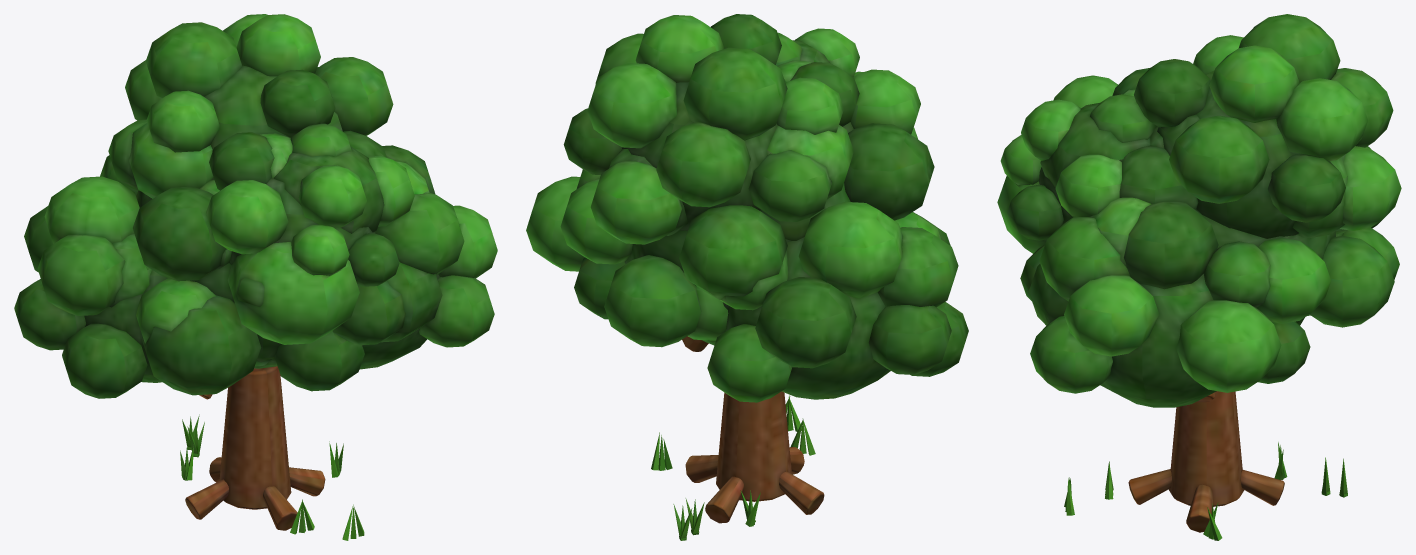
Rendered from pomegranate_tree.glb.
The picture shows the model from 3 angles, left to right: view 1: azimuth 30°, elevation 25°; view 2: azimuth 150°, elevation 25°; view 3: azimuth 270°, elevation 25°; orthographic projection. The views are drawn at different scales.
Parts seen in each view (by area): view 1: crown, pomegranate_tree; view 2: crown, pomegranate_tree; view 3: crown, pomegranate_tree.
Boxes of the visible parts, left/top/right/bottom form: crown: left=14, top=14, right=497, bottom=398; pomegranate_tree: left=180, top=366, right=364, bottom=540; crown: left=526, top=14, right=968, bottom=402; pomegranate_tree: left=651, top=336, right=824, bottom=540; crown: left=997, top=14, right=1401, bottom=407; pomegranate_tree: left=1064, top=391, right=1347, bottom=540.
Bounding box in the file's own units: 1.16 × 1.24 × 0.9523.
Materials: 1 (1 with a texture image).
